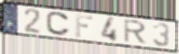2: (23, 8, 42, 35)
3: (151, 22, 171, 49)
4: (100, 16, 119, 44)
C: (45, 11, 72, 37)
F: (74, 13, 94, 39)
R: (122, 19, 148, 46)
